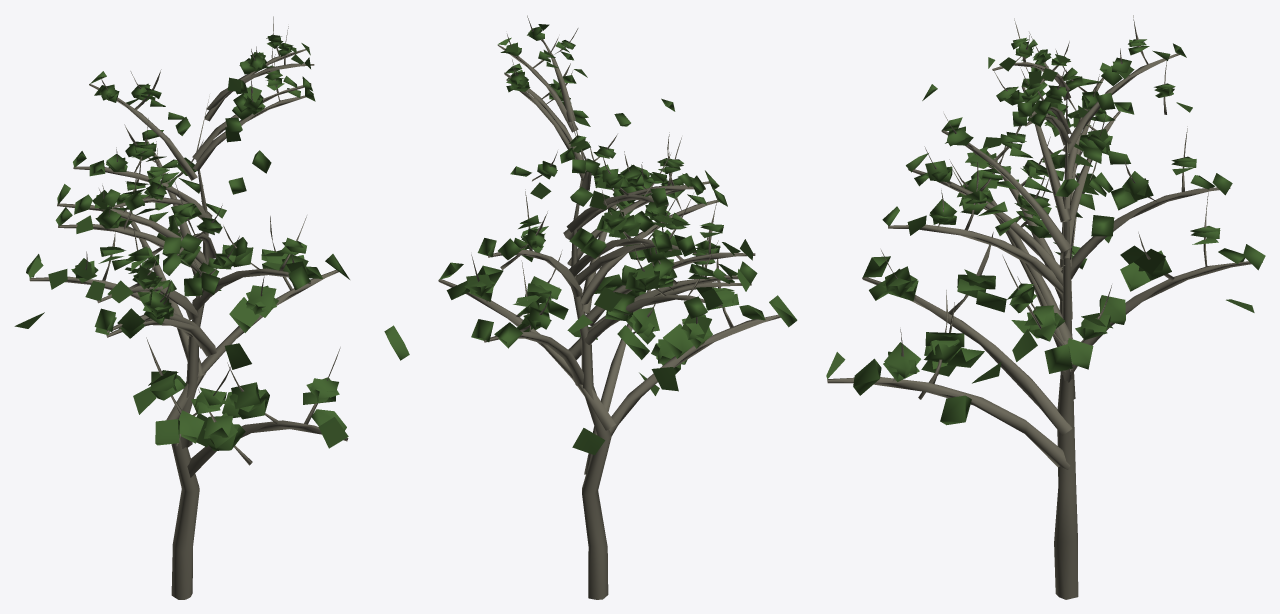
The model's file is Tree_PinOak_002.fbx.
The picture shows the model from 3 angles, left to right: view 1: azimuth 30°, elevation 25°; view 2: azimuth 150°, elevation 25°; view 3: azimuth 270°, elevation 25°; orthographic projection. The views are drawn at different scales.
Visible parts, largest first — view 1: Tree_PinOak.002; view 2: Tree_PinOak.002; view 3: Tree_PinOak.002.
Part boxes in pixels (x1,y1,x2,y2): Tree_PinOak.002: (14,16,409,599); Tree_PinOak.002: (438,15,797,599); Tree_PinOak.002: (826,15,1265,599).
Bounding box in the file's own units: 1440 × 2454 × 1604.
